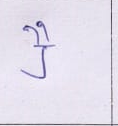ai_matra: (23, 21, 56, 44)
